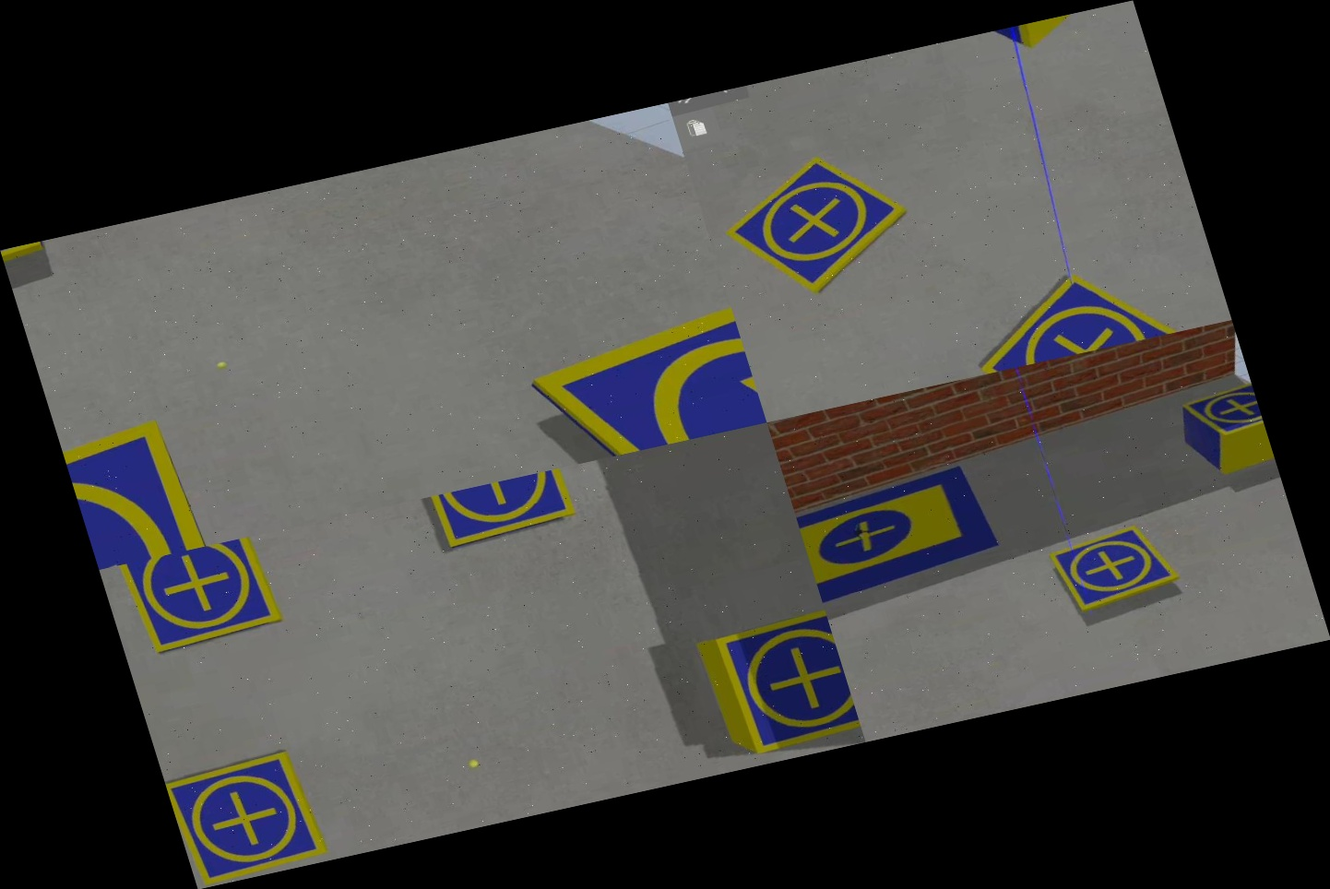large_base: (792, 465, 1009, 610)
small_base: (517, 298, 766, 468), (710, 139, 929, 308), (956, 250, 1195, 375), (162, 744, 336, 888), (707, 607, 863, 759), (58, 413, 208, 570), (114, 534, 287, 657), (1052, 523, 1186, 618), (429, 468, 576, 548), (1180, 382, 1266, 448)
